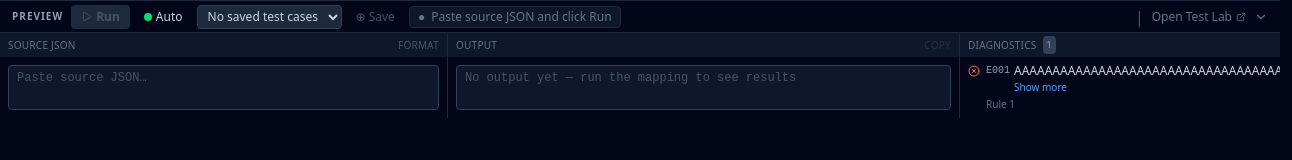
it: InlinePreviewStrip › clicking Show more reveals full diagnostic message
The image size is (1292, 160).
Click the button with test id "diagnostic-show-more" at (1040, 88), box 1014,81 -> 1067,94
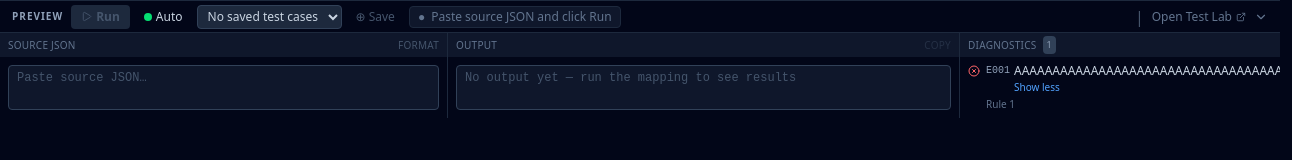
Check: the button with test id "diagnostic-show-less" is shown, box 1014,81 -> 1060,94
